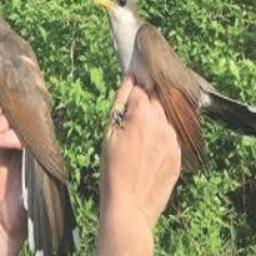Cuckoo: (94, 0, 256, 178), (0, 6, 77, 256)
